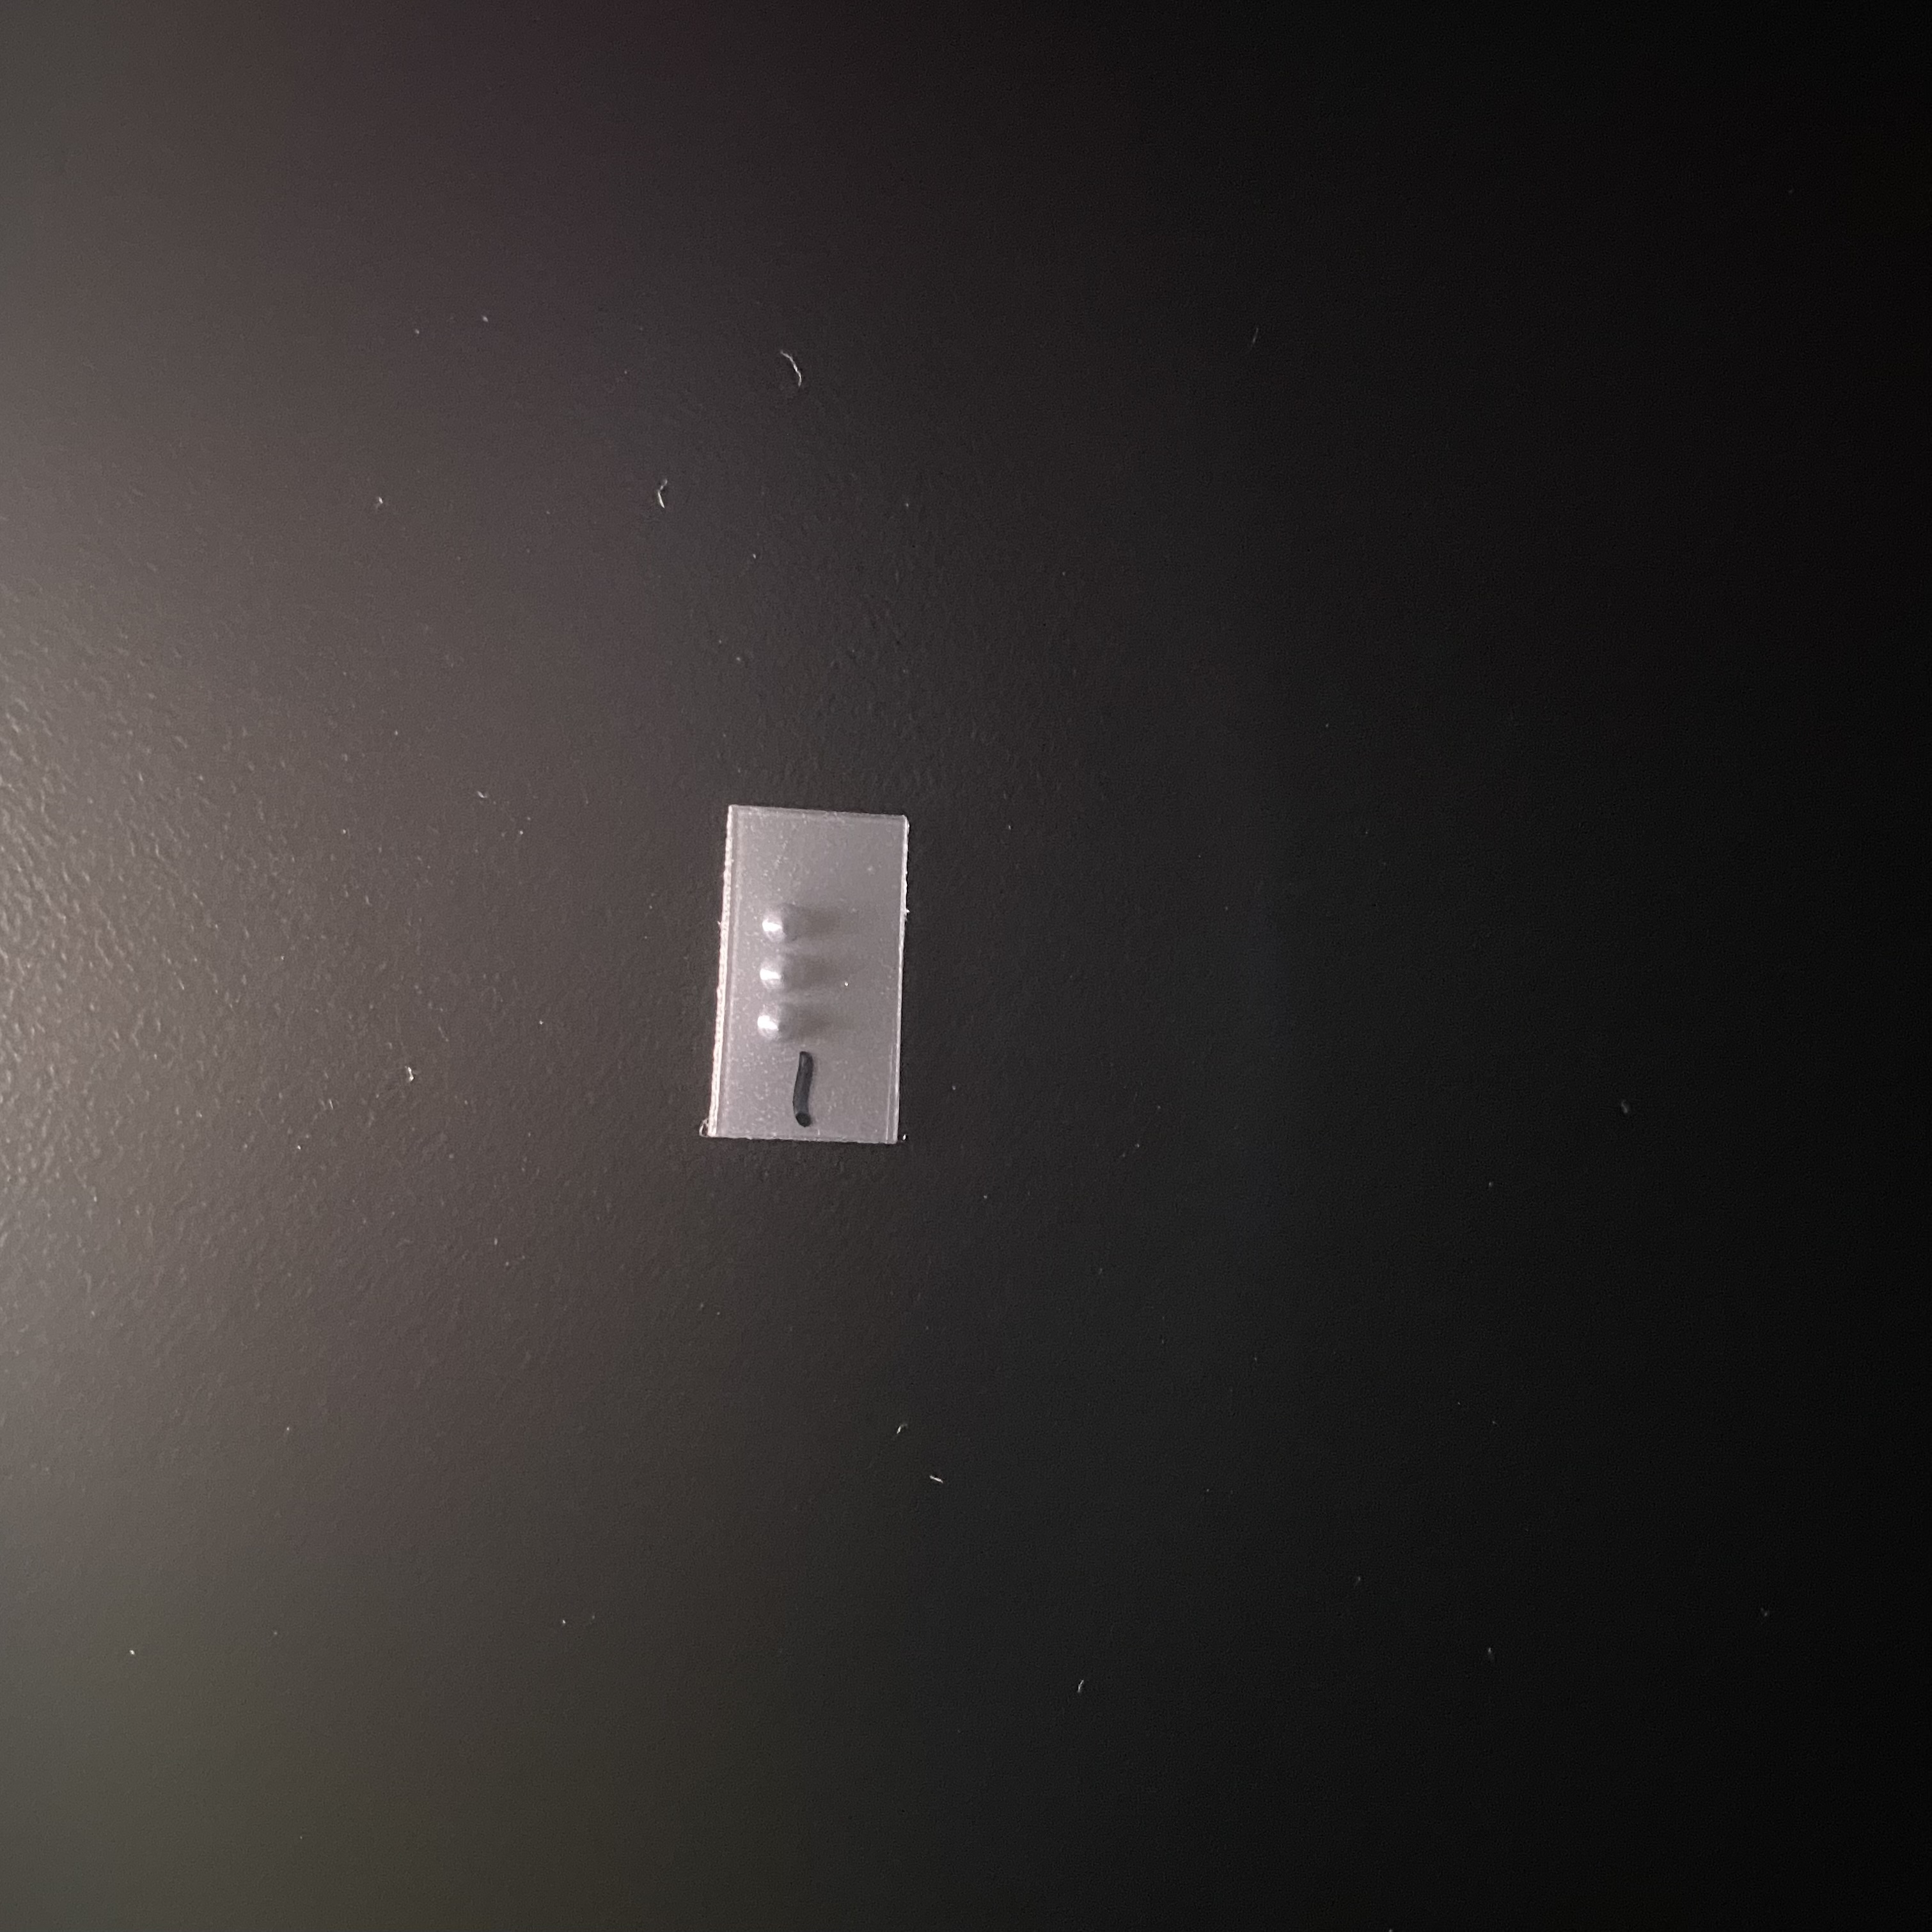l: (750, 894, 858, 1051)
